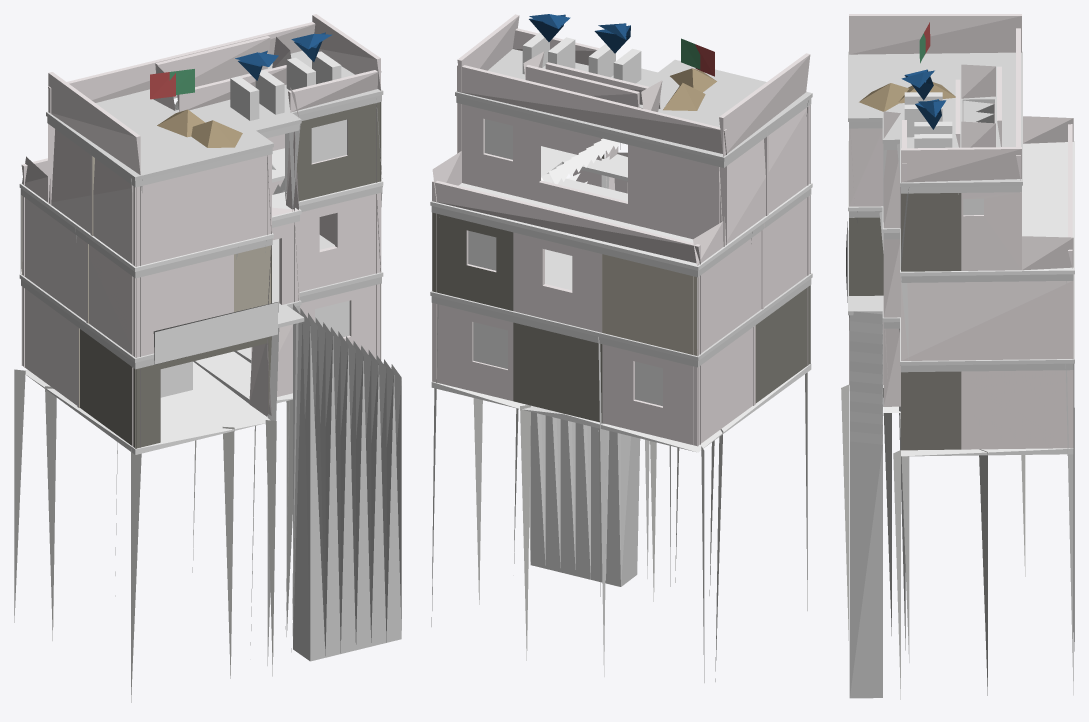
The picture shows the model from 3 angles, left to right: view 1: azimuth 30°, elevation 25°; view 2: azimuth 150°, elevation 25°; view 3: azimuth 270°, elevation 25°; orthographic projection.
Parts seen in each view (by area): view 1: F_23; view 2: F_23; view 3: F_23.
Boxes of the visible parts, x1,y1,x2,y2 form: F_23: (14, 14, 401, 702); F_23: (430, 14, 812, 682); F_23: (841, 14, 1074, 699).
Size of the model in its own units: 9.21 by 18.58 by 6.76.
